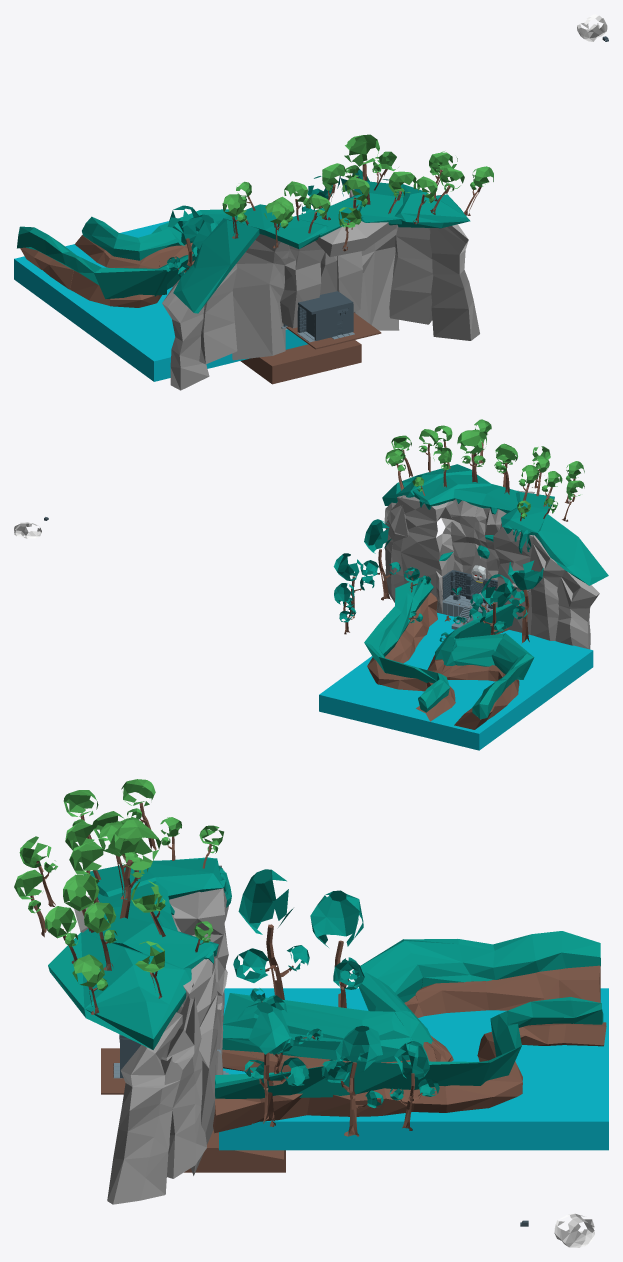
The model's file is Temple Entrance.glb.
3 renders of one model, top to bottom at view 1: azimuth 30°, elevation 25°; view 2: azimuth 150°, elevation 25°; view 3: azimuth 270°, elevation 25°, orthographic. The views are drawn at different scales.
Parts seen in each view (by area): view 1: Node; view 2: Node; view 3: Node.
Part boxes in pixels (left/top/right/bottom): Node: left=14, top=14, right=608, bottom=390; Node: left=14, top=419, right=608, bottom=750; Node: left=14, top=779, right=608, bottom=1247.
Size of the model in its own units: 9.8 by 3.88 by 6.21.
